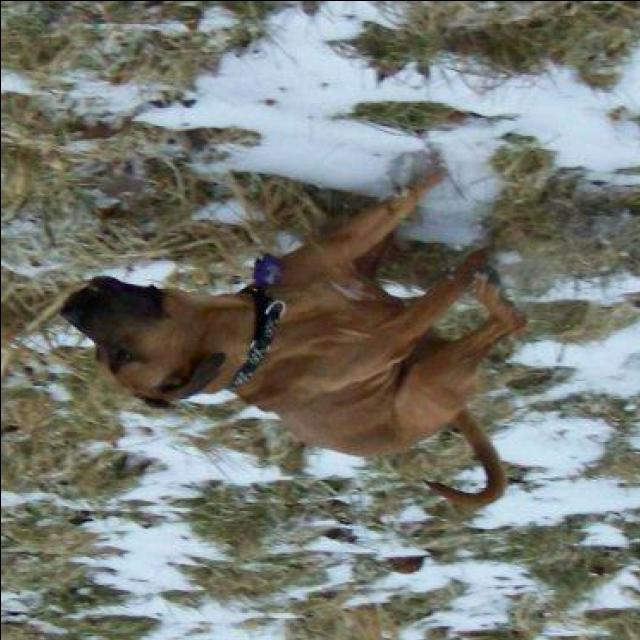rhodesian_ridgeback: (59, 161, 534, 517)
